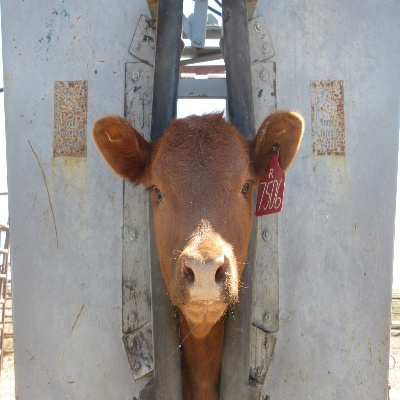fidget_spinner: (177, 244, 229, 299)
